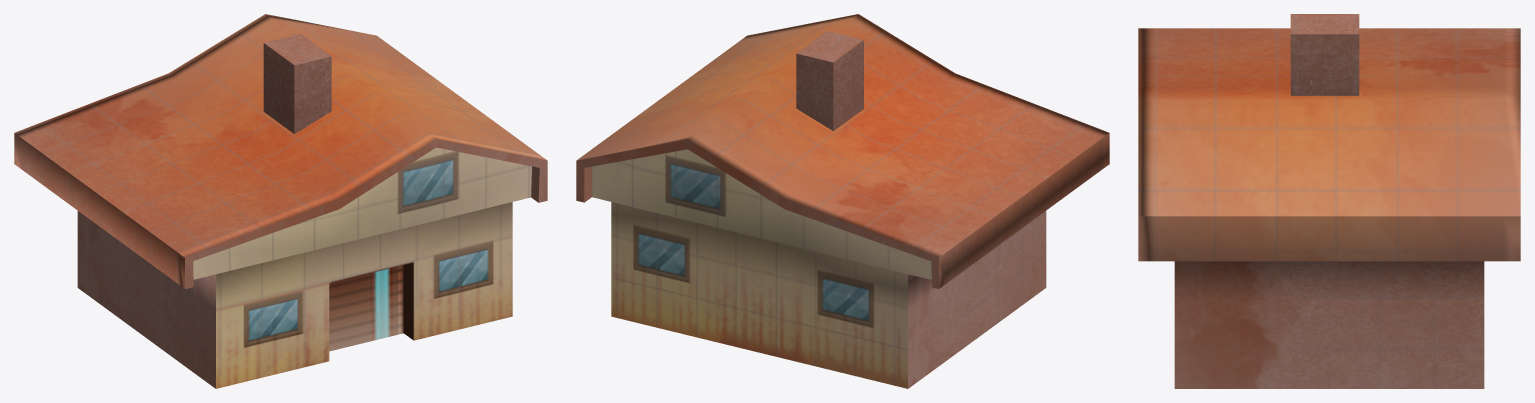
The model's file is House_v01.fbx.
3 views of the same model, side by side, from view 1: azimuth 30°, elevation 25°; view 2: azimuth 150°, elevation 25°; view 3: azimuth 270°, elevation 25° (orthographic). The views are drawn at different scales.
Visible parts, largest first — view 1: House_v01; view 2: House_v01; view 3: House_v01.
Boxes of the visible parts, bbox=[...] form: House_v01: bbox=[14, 14, 547, 388]; House_v01: bbox=[576, 14, 1109, 388]; House_v01: bbox=[1138, 14, 1520, 388].
Bounding box in the file's own units: 4.15 × 2.77 × 3.39.
